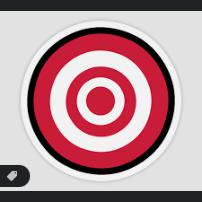bulls eye: (20, 20, 184, 180)
